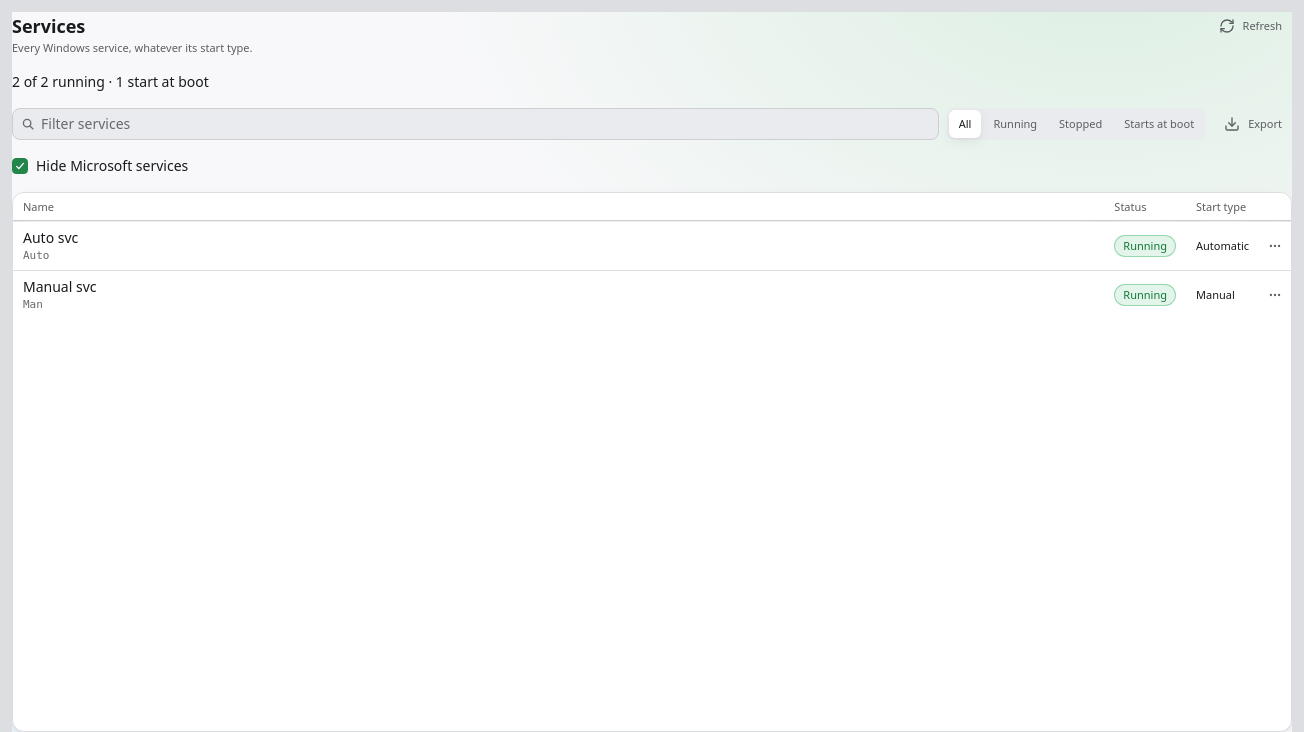
Scenario: StartupScreen › services mode › filters to services that start at boot
Expected: the heading "Services" is shown, left=12, top=14, right=85, bottom=38
Step 1. Click the radio button labelled "Starts at boot" → (1159, 124), box left=1114, top=110, right=1204, bottom=138
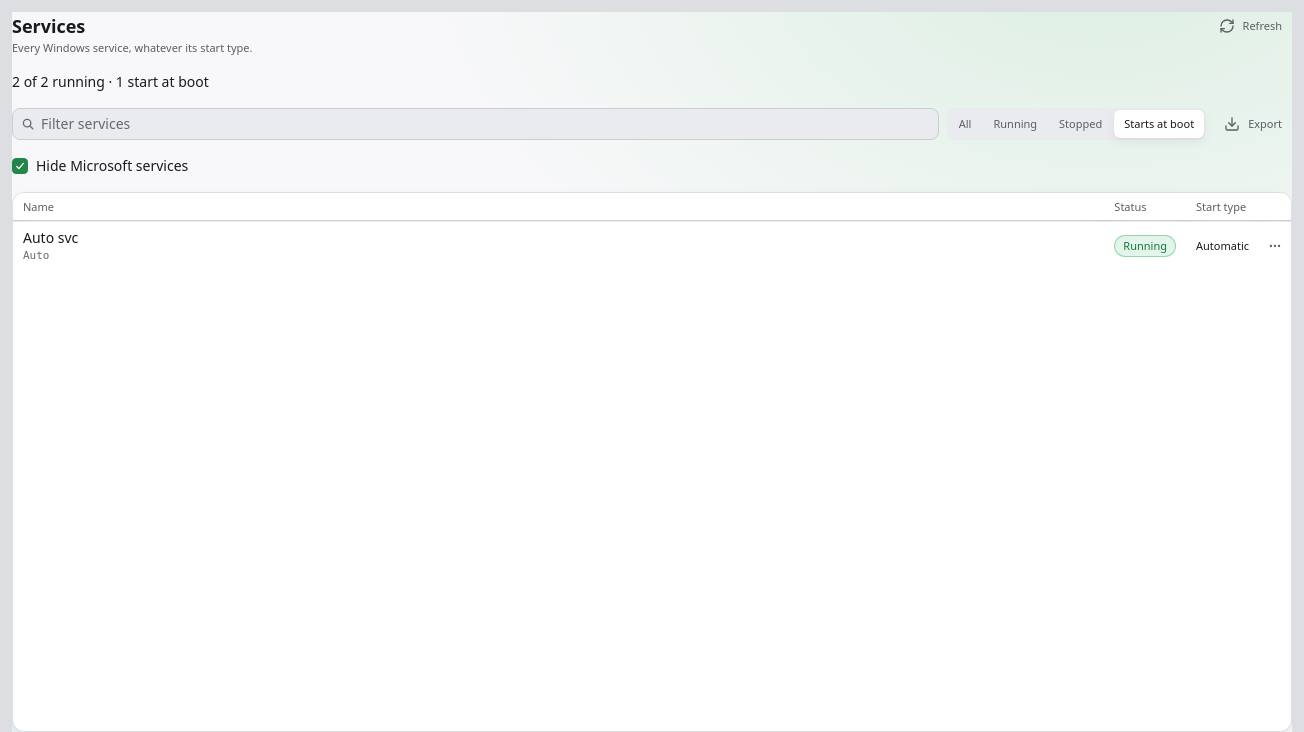
Expected: the text "Auto svc" is shown, left=23, top=228, right=78, bottom=247
Expected: the text "Manual svc" is gone
